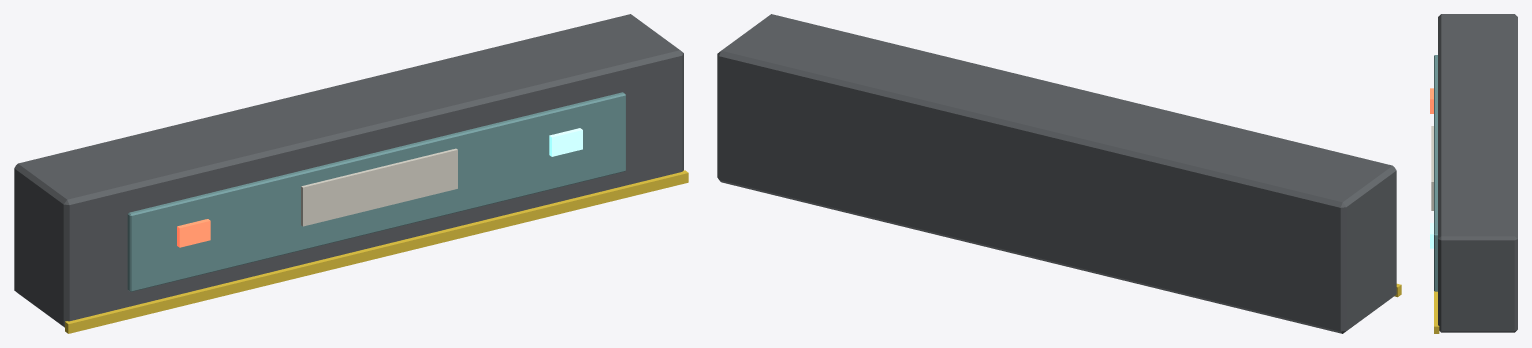
The model's file is door_lintel.glb.
3 renders of one model, left to right at view 1: azimuth 30°, elevation 25°; view 2: azimuth 150°, elevation 25°; view 3: azimuth 270°, elevation 25°, orthographic. The views are drawn at different scales.
Visible parts, largest first — view 1: door_lintel; view 2: door_lintel; view 3: door_lintel.
Part boxes in pixels (x1,y1,x2,y2): door_lintel: (14, 14, 688, 333); door_lintel: (717, 14, 1401, 333); door_lintel: (1430, 14, 1517, 333).
Bounding box in the file's own units: 2 × 0.4 × 0.33.
